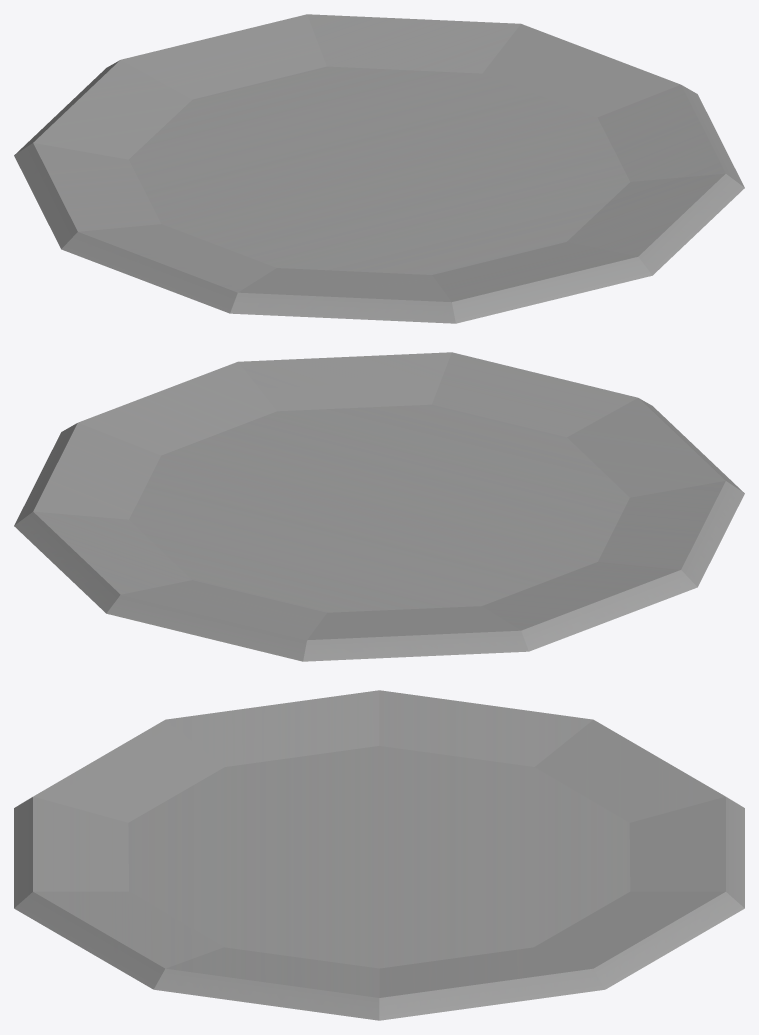
Rendered from PlateEmpty.fbx.
The picture shows the model from 3 angles, top to bottom: view 1: azimuth 30°, elevation 25°; view 2: azimuth 150°, elevation 25°; view 3: azimuth 270°, elevation 25°; orthographic projection. The views are drawn at different scales.
Parts seen in each view (by area): view 1: PlateEmpty; view 2: PlateEmpty; view 3: PlateEmpty.
Part boxes in pixels (x1,y1,x2,y2): PlateEmpty: (14, 14, 744, 323); PlateEmpty: (14, 352, 744, 661); PlateEmpty: (14, 690, 744, 1020).
Bounding box in the file's own units: 0.4204 × 0.033 × 0.3998.
